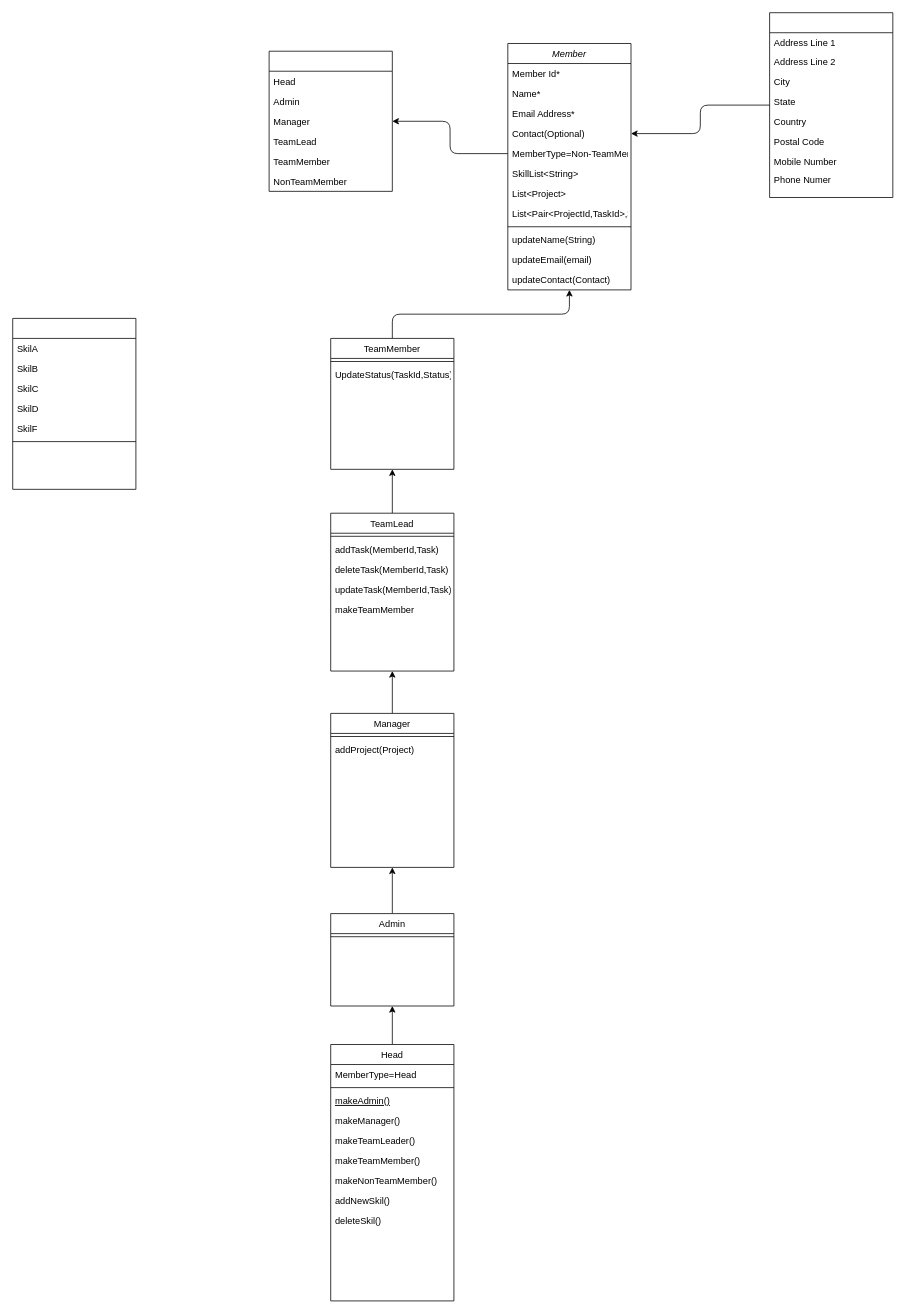
Image size: 906x1314. Some labels were removed from this diagram. Here are the shapes that lost their labels. From the top down, the box of each, then its label:
(268, 50, 392, 191): RoleTable
(769, 12, 893, 198): Contact
(12, 318, 136, 489): SkilListTable
